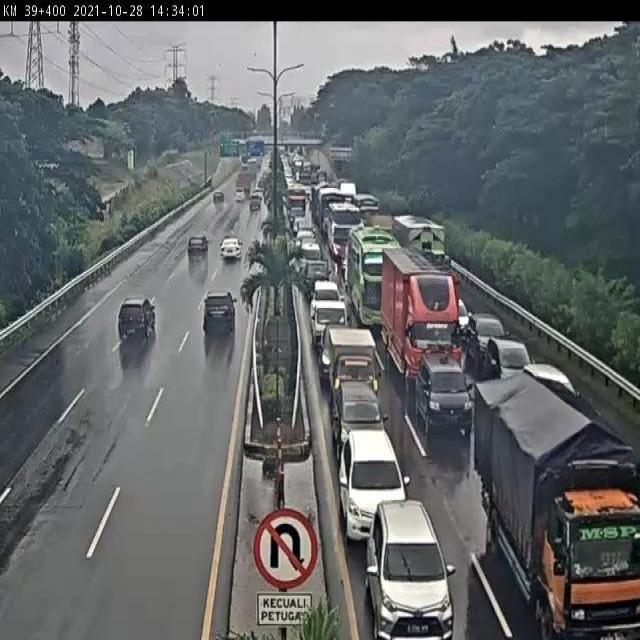big bus: (348, 228, 401, 329), (322, 202, 362, 258)
big truck: (468, 362, 621, 598), (380, 247, 459, 393), (392, 212, 456, 284)
car: (360, 489, 451, 636), (334, 429, 409, 539), (567, 406, 631, 506), (416, 350, 472, 438), (322, 328, 384, 405), (327, 382, 389, 458), (309, 296, 350, 352), (466, 313, 508, 360), (118, 296, 157, 343), (487, 337, 530, 375), (202, 291, 237, 336), (298, 258, 330, 298), (447, 293, 470, 335), (296, 238, 320, 266), (312, 278, 340, 302), (220, 236, 246, 261), (186, 234, 209, 262), (248, 193, 264, 219), (209, 185, 226, 207), (294, 222, 312, 242), (233, 187, 248, 208)
